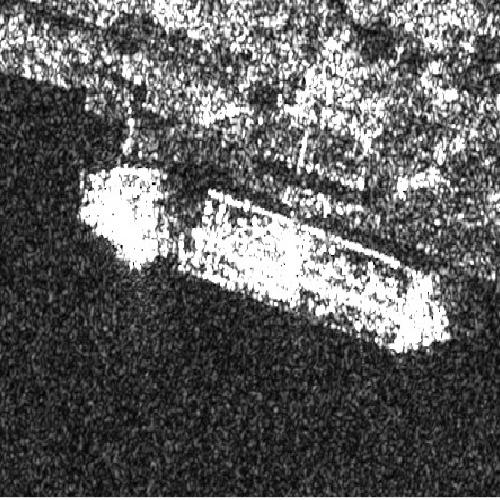ship: (77, 162, 457, 358)
